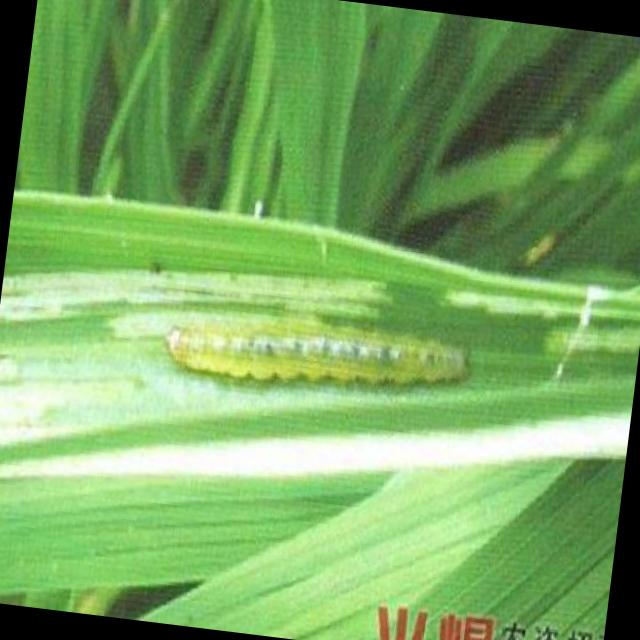leaf-folder: (153, 263, 473, 444)
